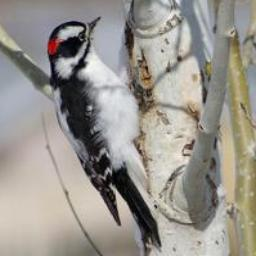Woodpecker: (49, 13, 165, 254)
